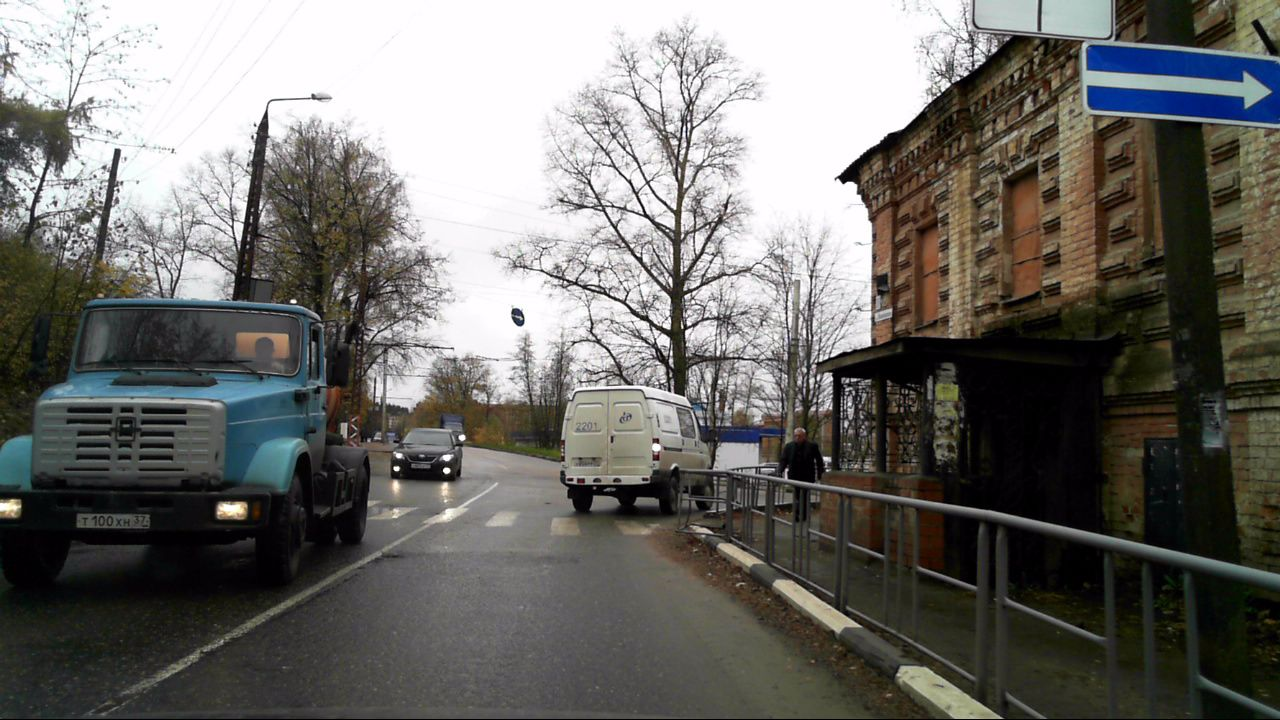One-Way Traffic: (1082, 43, 1280, 124)
